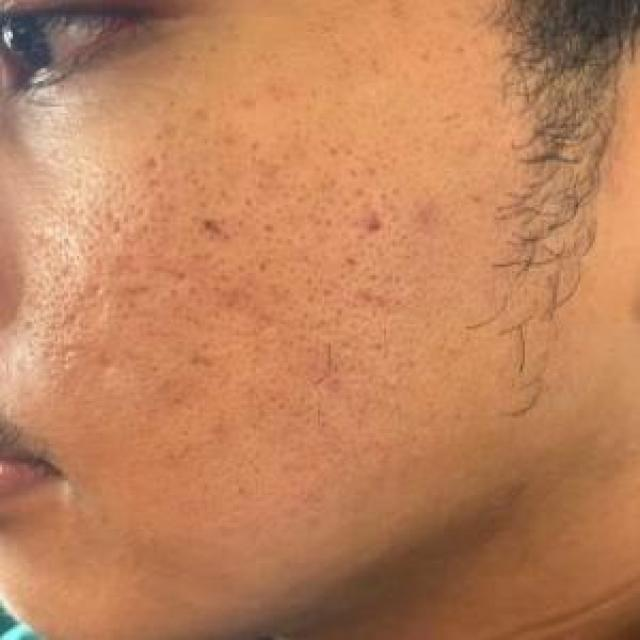dry: (80, 142, 486, 440)
